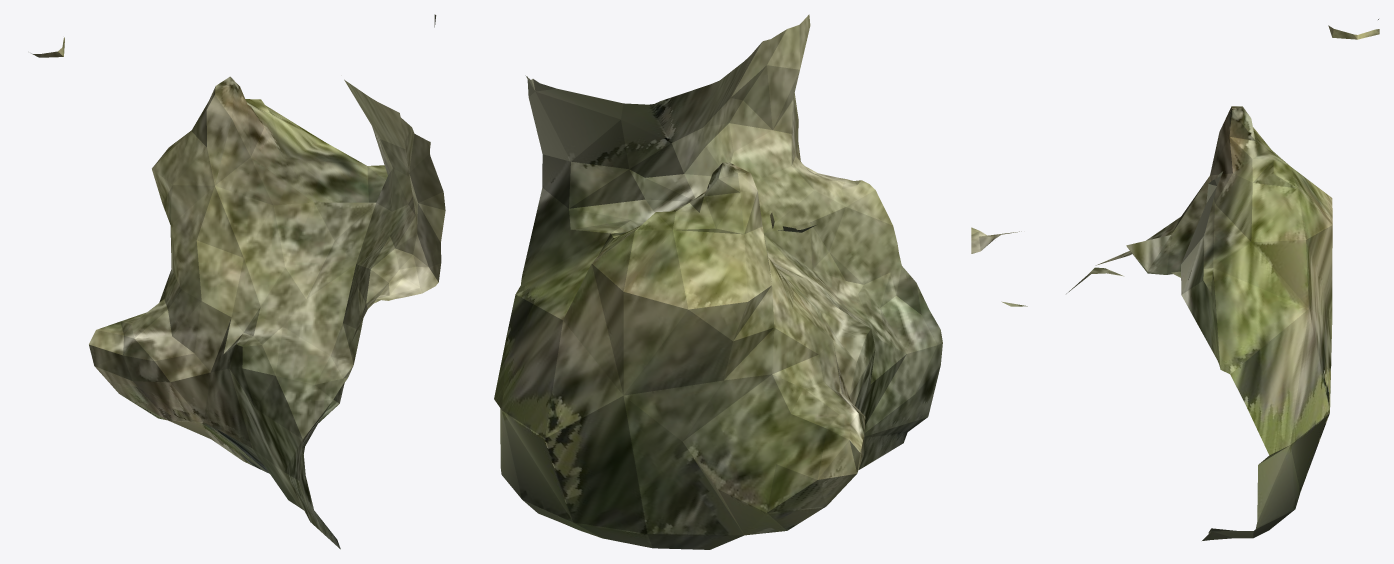
The picture shows the model from 3 angles, left to right: view 1: azimuth 30°, elevation 25°; view 2: azimuth 150°, elevation 25°; view 3: azimuth 270°, elevation 25°; orthographic projection. The views are drawn at different scales.
Size of the model in its own units: 2.84 by 2.95 by 2.95.
Materials: 4 (4 with a texture image).
